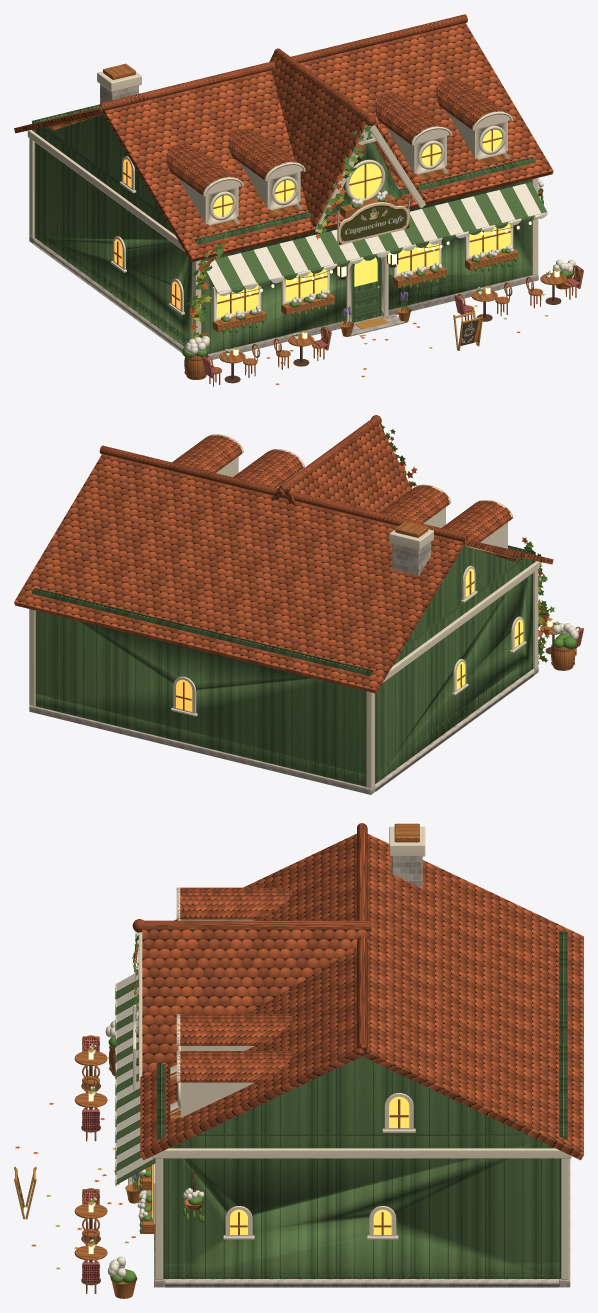
The model's file is building_cafe.glb.
The picture shows the model from 3 angles, top to bottom: view 1: azimuth 30°, elevation 25°; view 2: azimuth 150°, elevation 25°; view 3: azimuth 270°, elevation 25°; orthographic projection. The views are drawn at different scales.
Visible parts, largest first — view 1: roof, wall_front, wall_left, base, door, wall_front_low, wall_left_low, wall_back, loft; view 2: roof, wall_back, wall_left, wall_back_low, wall_left_low, wall_front, base; view 3: roof, wall_right, wall_front, base, wall_right_low, wall_back.
Part boxes in pixels (x1=…): roof: x1=14, y1=14, x2=553, y2=262; wall_front: x1=185, y1=133, x2=547, y2=360; wall_left: x1=33, y1=114, x2=192, y2=352; base: x1=182, y1=259, x2=583, y2=386; door: x1=351, y1=255, x2=381, y2=322; wall_front_low: x1=207, y1=263, x2=537, y2=353; wall_left_low: x1=35, y1=227, x2=189, y2=346; wall_back: x1=29, y1=104, x2=99, y2=243; loft: x1=209, y1=154, x2=505, y2=230; roof: x1=14, y1=415, x2=553, y2=693; wall_back: x1=29, y1=588, x2=375, y2=794; wall_left: x1=375, y1=545, x2=534, y2=791; wall_back_low: x1=29, y1=693, x2=374, y2=787; wall_left_low: x1=375, y1=657, x2=533, y2=785; wall_front: x1=479, y1=537, x2=554, y2=674; base: x1=538, y1=618, x2=583, y2=670; roof: x1=132, y1=823, x2=583, y2=1160; wall_right: x1=165, y1=1056, x2=559, y2=1287; wall_front: x1=115, y1=938, x2=164, y2=1287; base: x1=14, y1=1020, x2=151, y2=1298; wall_right_low: x1=165, y1=1263, x2=558, y2=1278; wall_back: x1=559, y1=931, x2=570, y2=1287.
Size of the model in its own units: 13.62 by 7.14 by 13.88.
25 materials, 25 textured.
